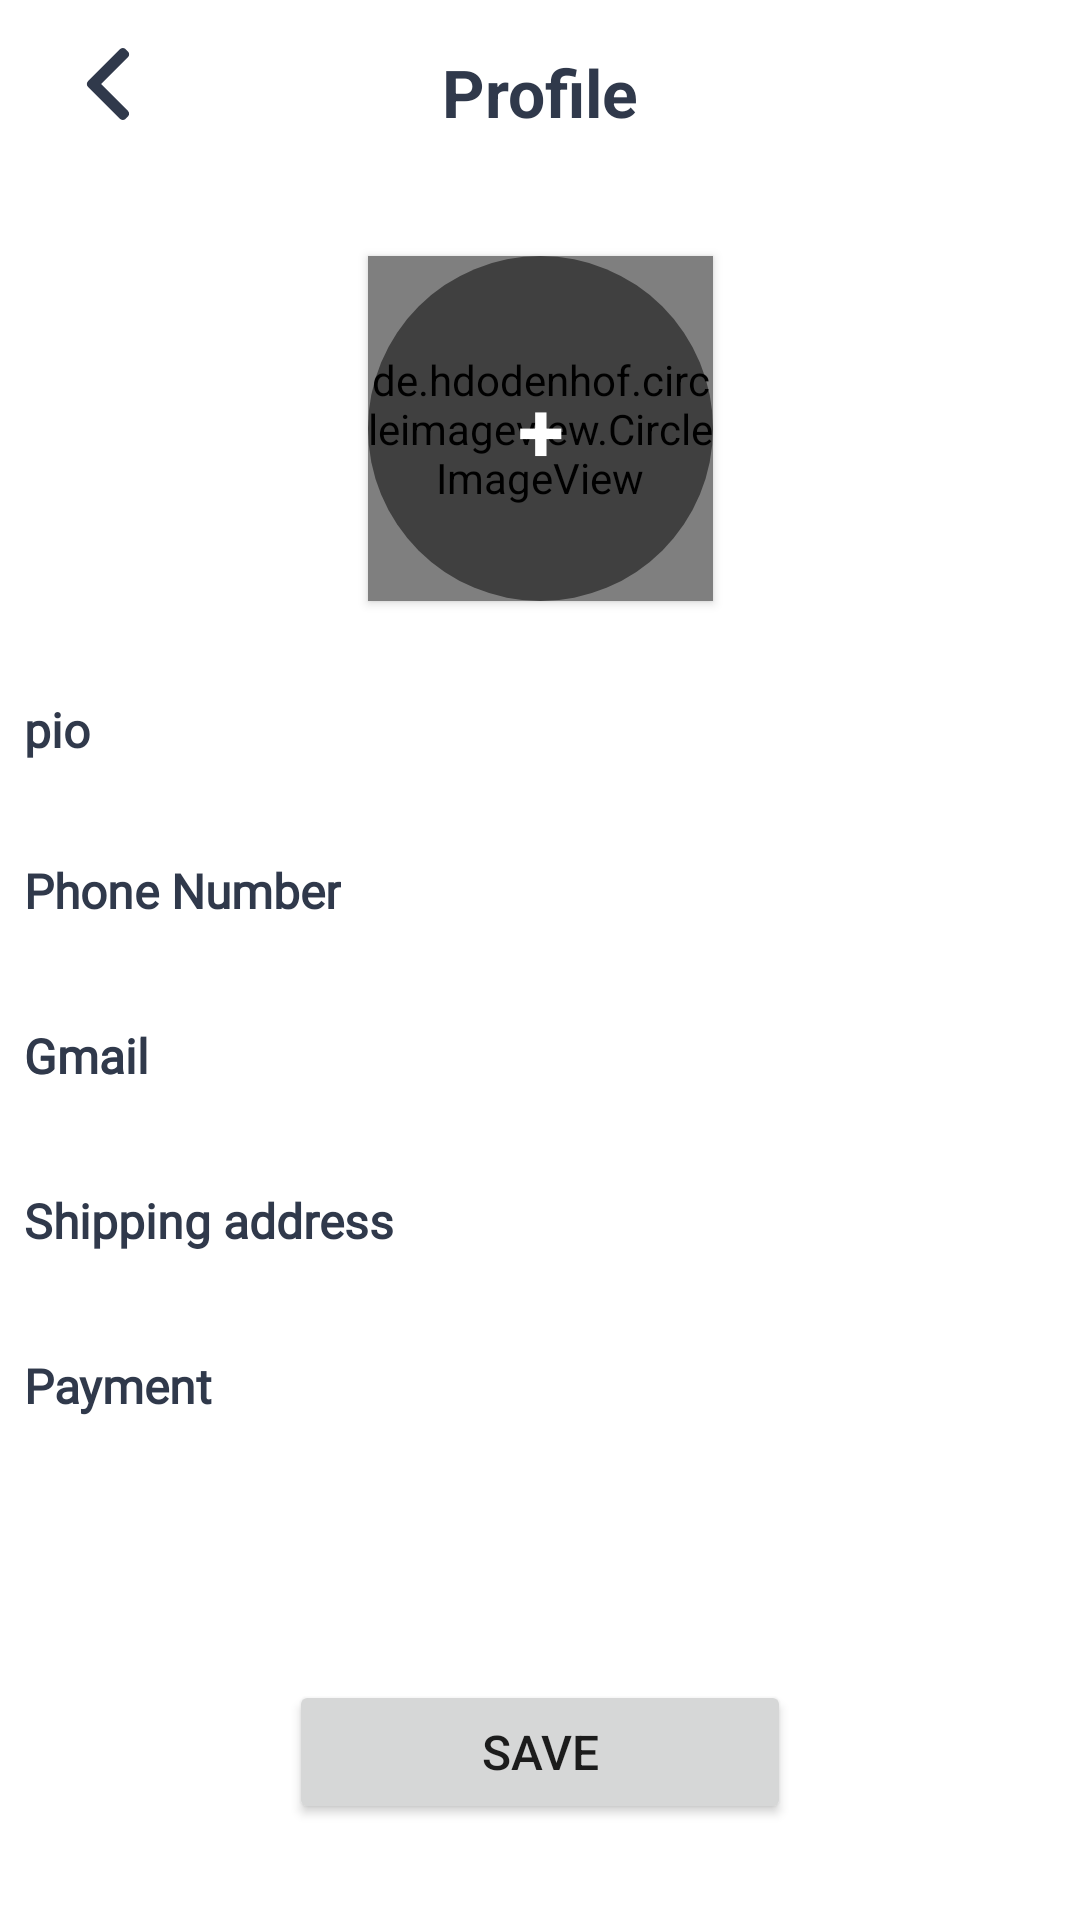

Locate icon controls on the screen. Image size 1080 x 1920, boxes as box=[x1, y1, x2, y2].
left arrow: box=[87, 48, 129, 120]
